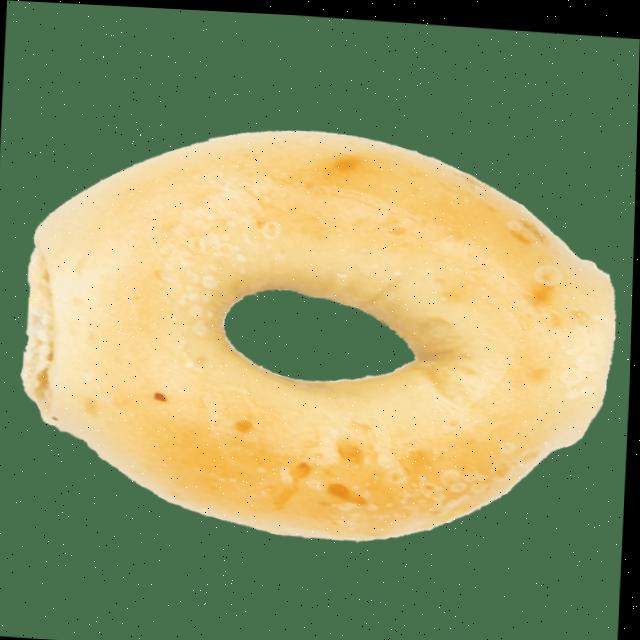Bagel: (24, 128, 614, 536)
